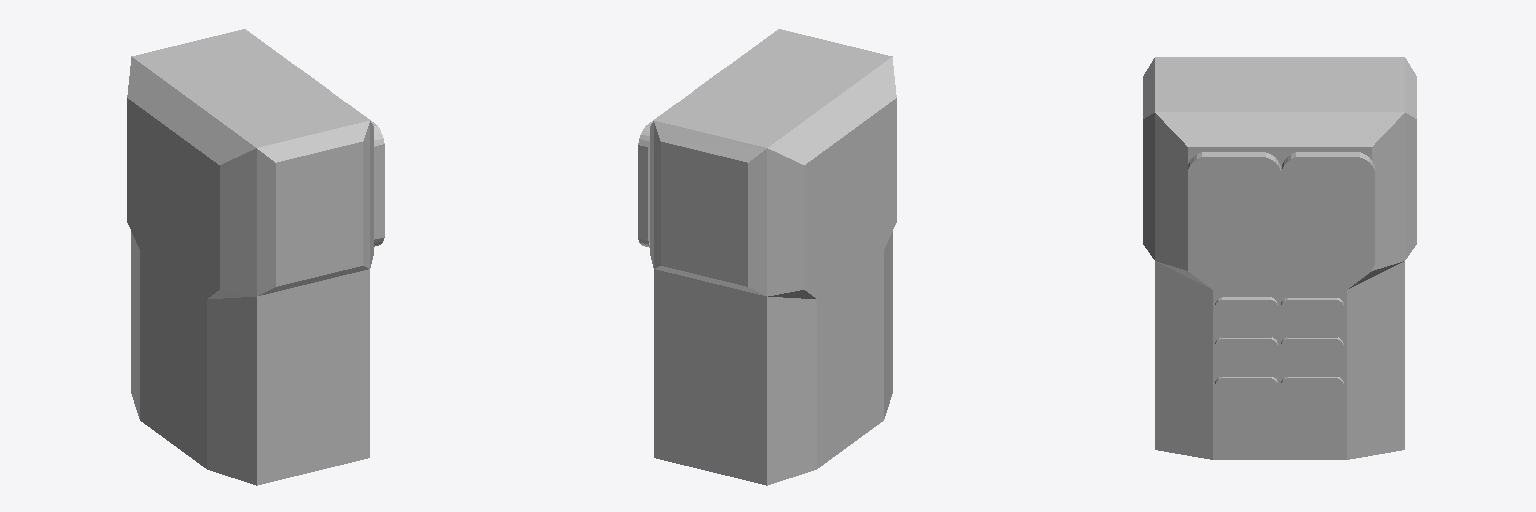
File: custom_body.obj
3 views of the same model, side by side, from view 1: azimuth 30°, elevation 25°; view 2: azimuth 150°, elevation 25°; view 3: azimuth 270°, elevation 25° (orthographic).
Visible parts, largest first — view 1: Cube; view 2: Cube; view 3: Cube.
Part boxes in pixels (x1,y1,x2,y2): Cube: (127, 29, 384, 485); Cube: (638, 29, 896, 485); Cube: (1143, 57, 1416, 459).
Bounding box in the file's own units: 6.4 × 12.5 × 9.2.